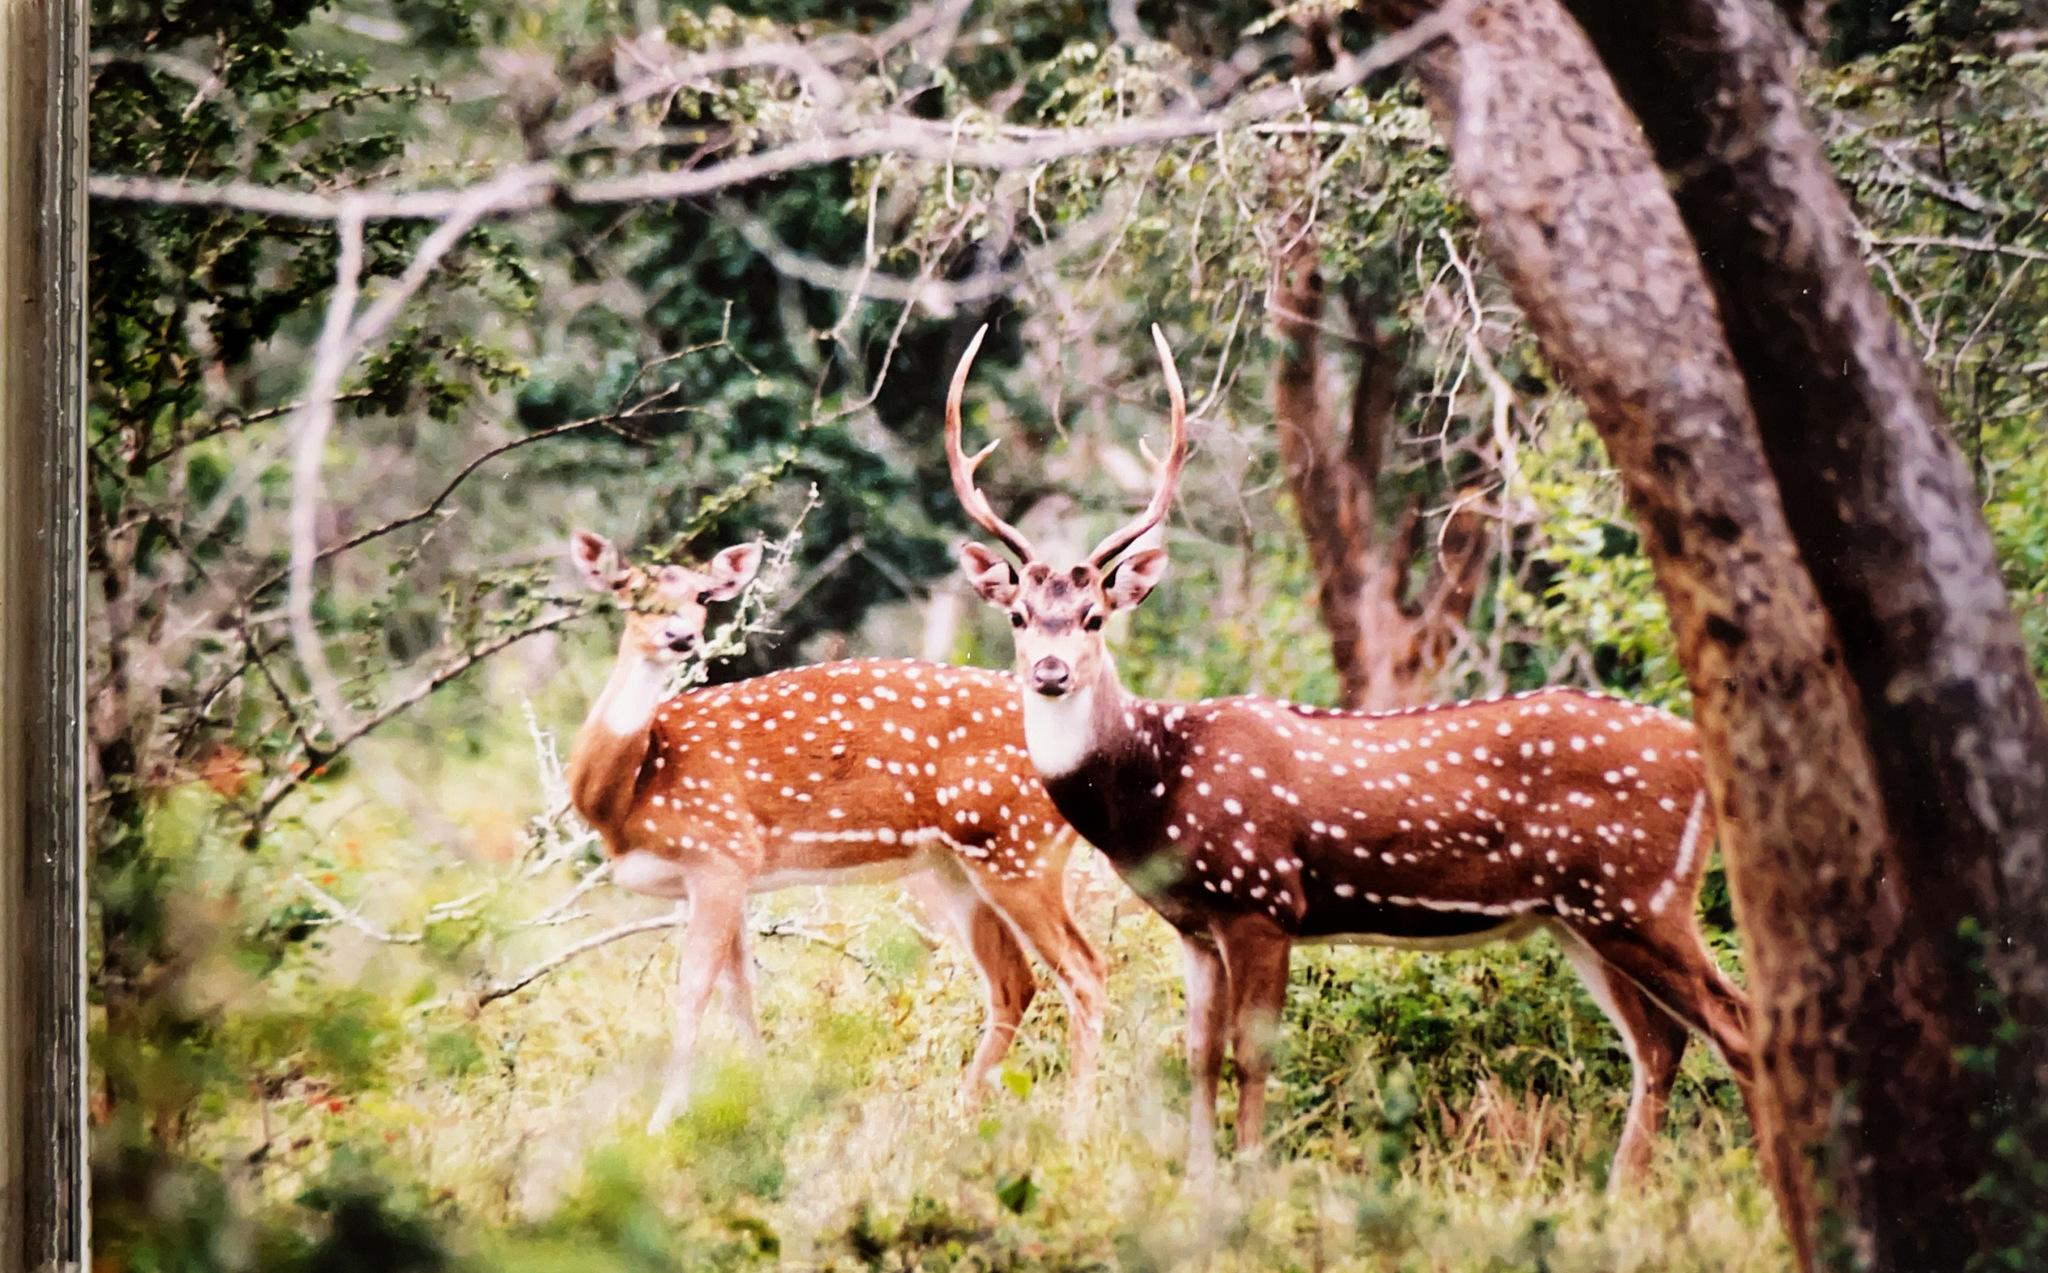Deer: (946, 334, 1750, 1178), (566, 529, 1105, 1120)
